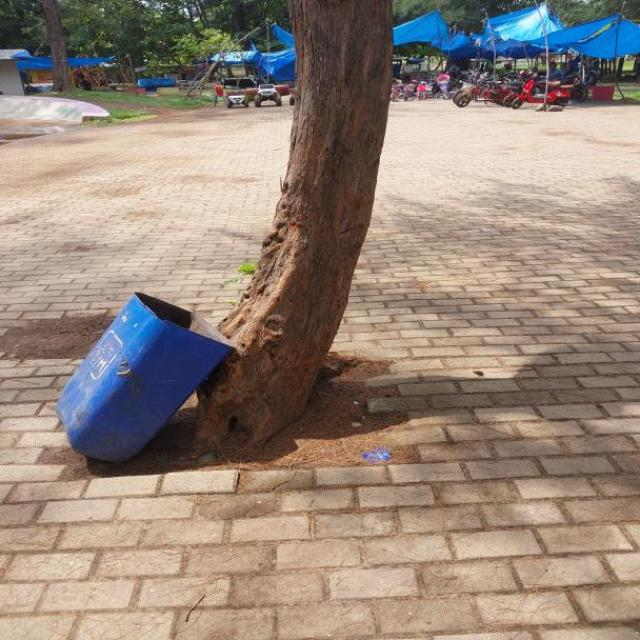dustbin ahead at: (58, 287, 236, 471)
